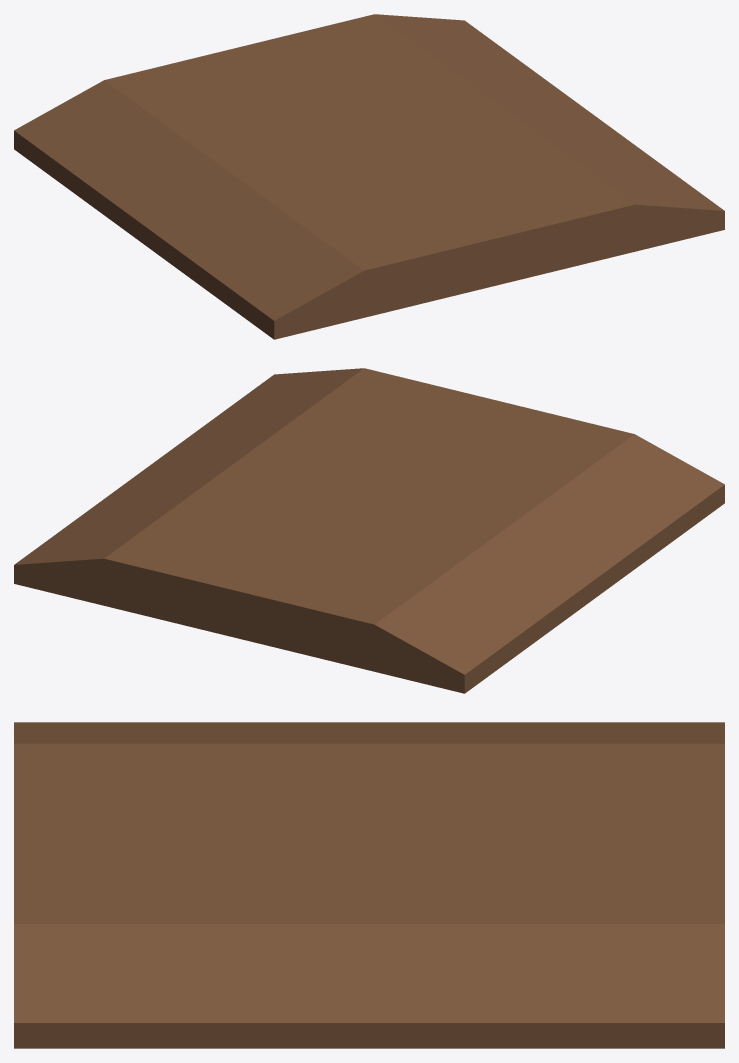
Rendered from street_simple.fbx.
3 views of the same model, one above another, from view 1: azimuth 30°, elevation 25°; view 2: azimuth 150°, elevation 25°; view 3: azimuth 270°, elevation 25° (orthographic). The views are drawn at different scales.
Parts seen in each view (by area): view 1: Cube; view 2: Cube; view 3: Cube.
Boxes of the visible parts, box(x1,y1,x2,y2) form: Cube: box(14, 14, 724, 339); Cube: box(14, 368, 724, 693); Cube: box(14, 722, 724, 1048).
Bounding box in the file's own units: 100 × 10 × 100.
